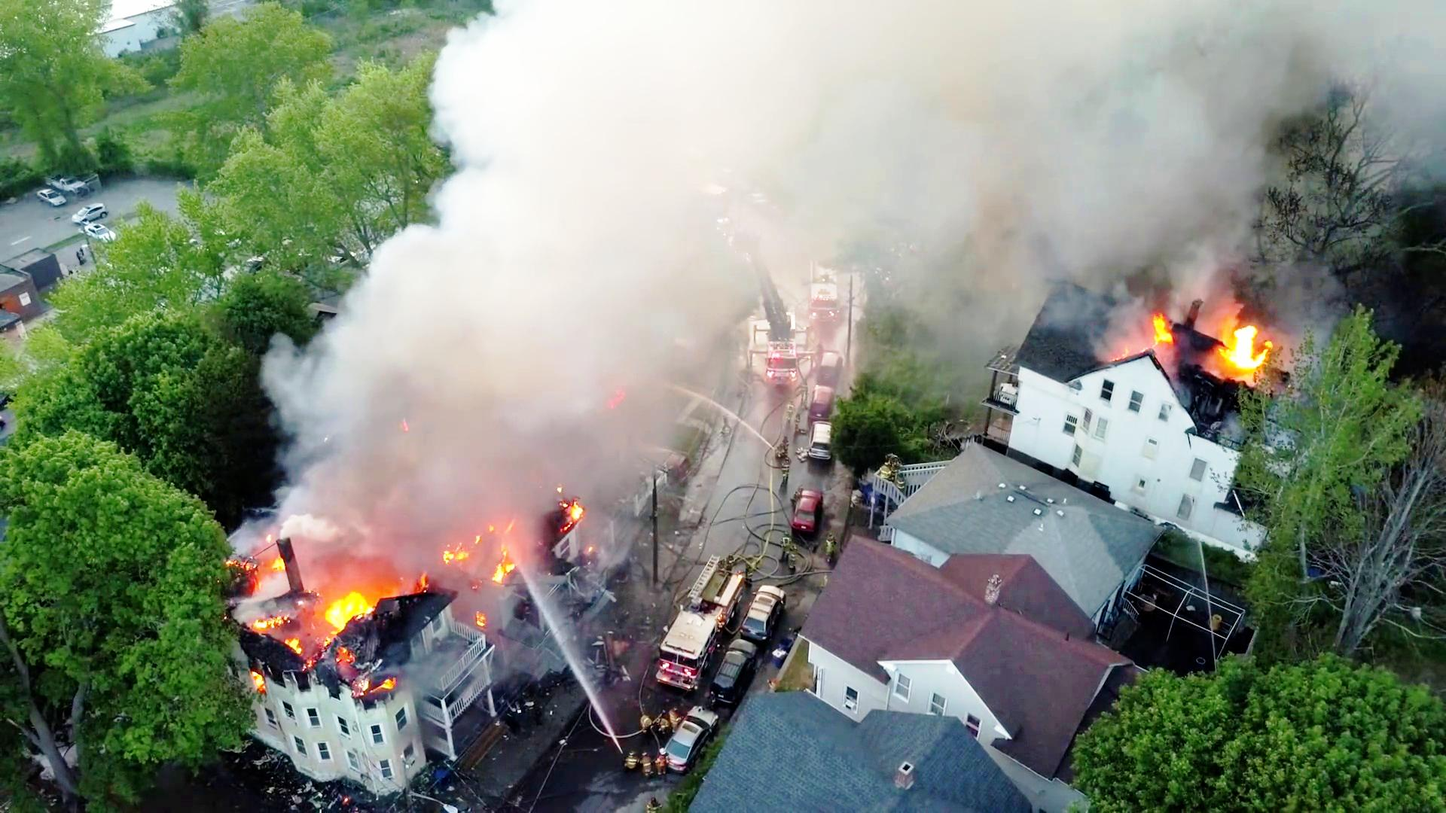fire: (313, 572, 383, 640), (1232, 318, 1275, 366)
smoke: (516, 17, 1054, 213), (407, 268, 597, 469)
